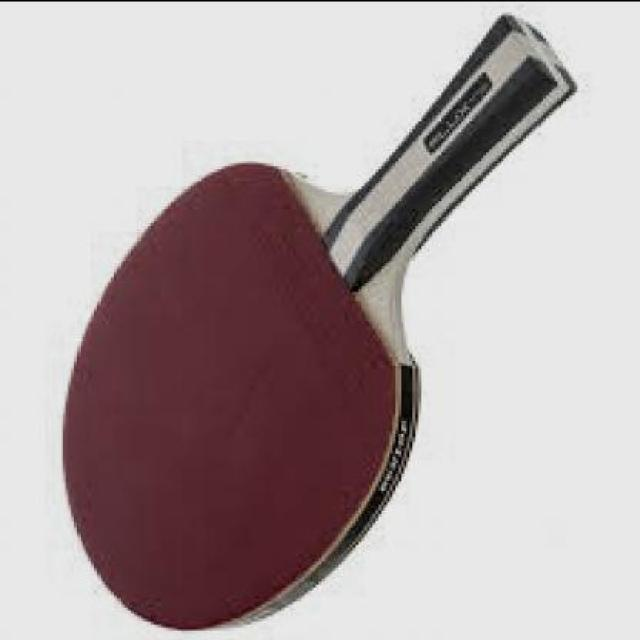table_tennis_racket: (57, 138, 423, 632)
